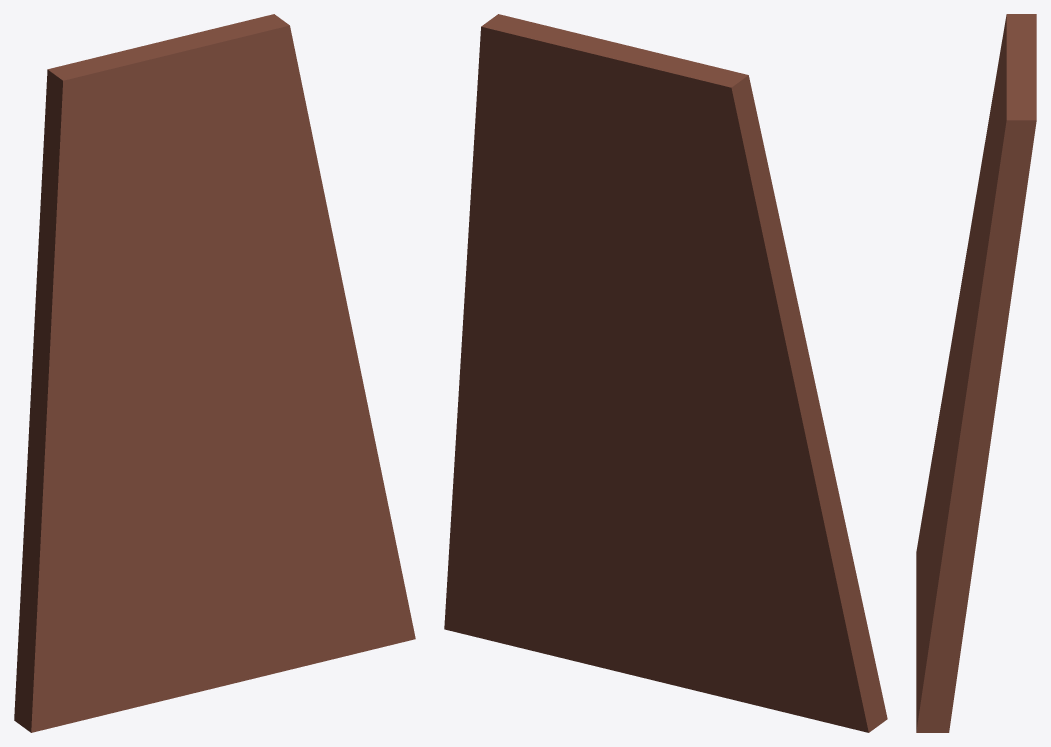
The model's file is Pawn_Cape.fbx.
The picture shows the model from 3 angles, left to right: view 1: azimuth 30°, elevation 25°; view 2: azimuth 150°, elevation 25°; view 3: azimuth 270°, elevation 25°; orthographic projection. The views are drawn at different scales.
Parts seen in each view (by area): view 1: Pawn_Cape; view 2: Pawn_Cape; view 3: Pawn_Cape.
Part boxes in pixels (x1,y1,x2,y2): Pawn_Cape: (14, 14, 415, 732); Pawn_Cape: (444, 14, 887, 732); Pawn_Cape: (916, 14, 1036, 732).
Size of the model in its own units: 0.78 by 1.16 by 0.22.
